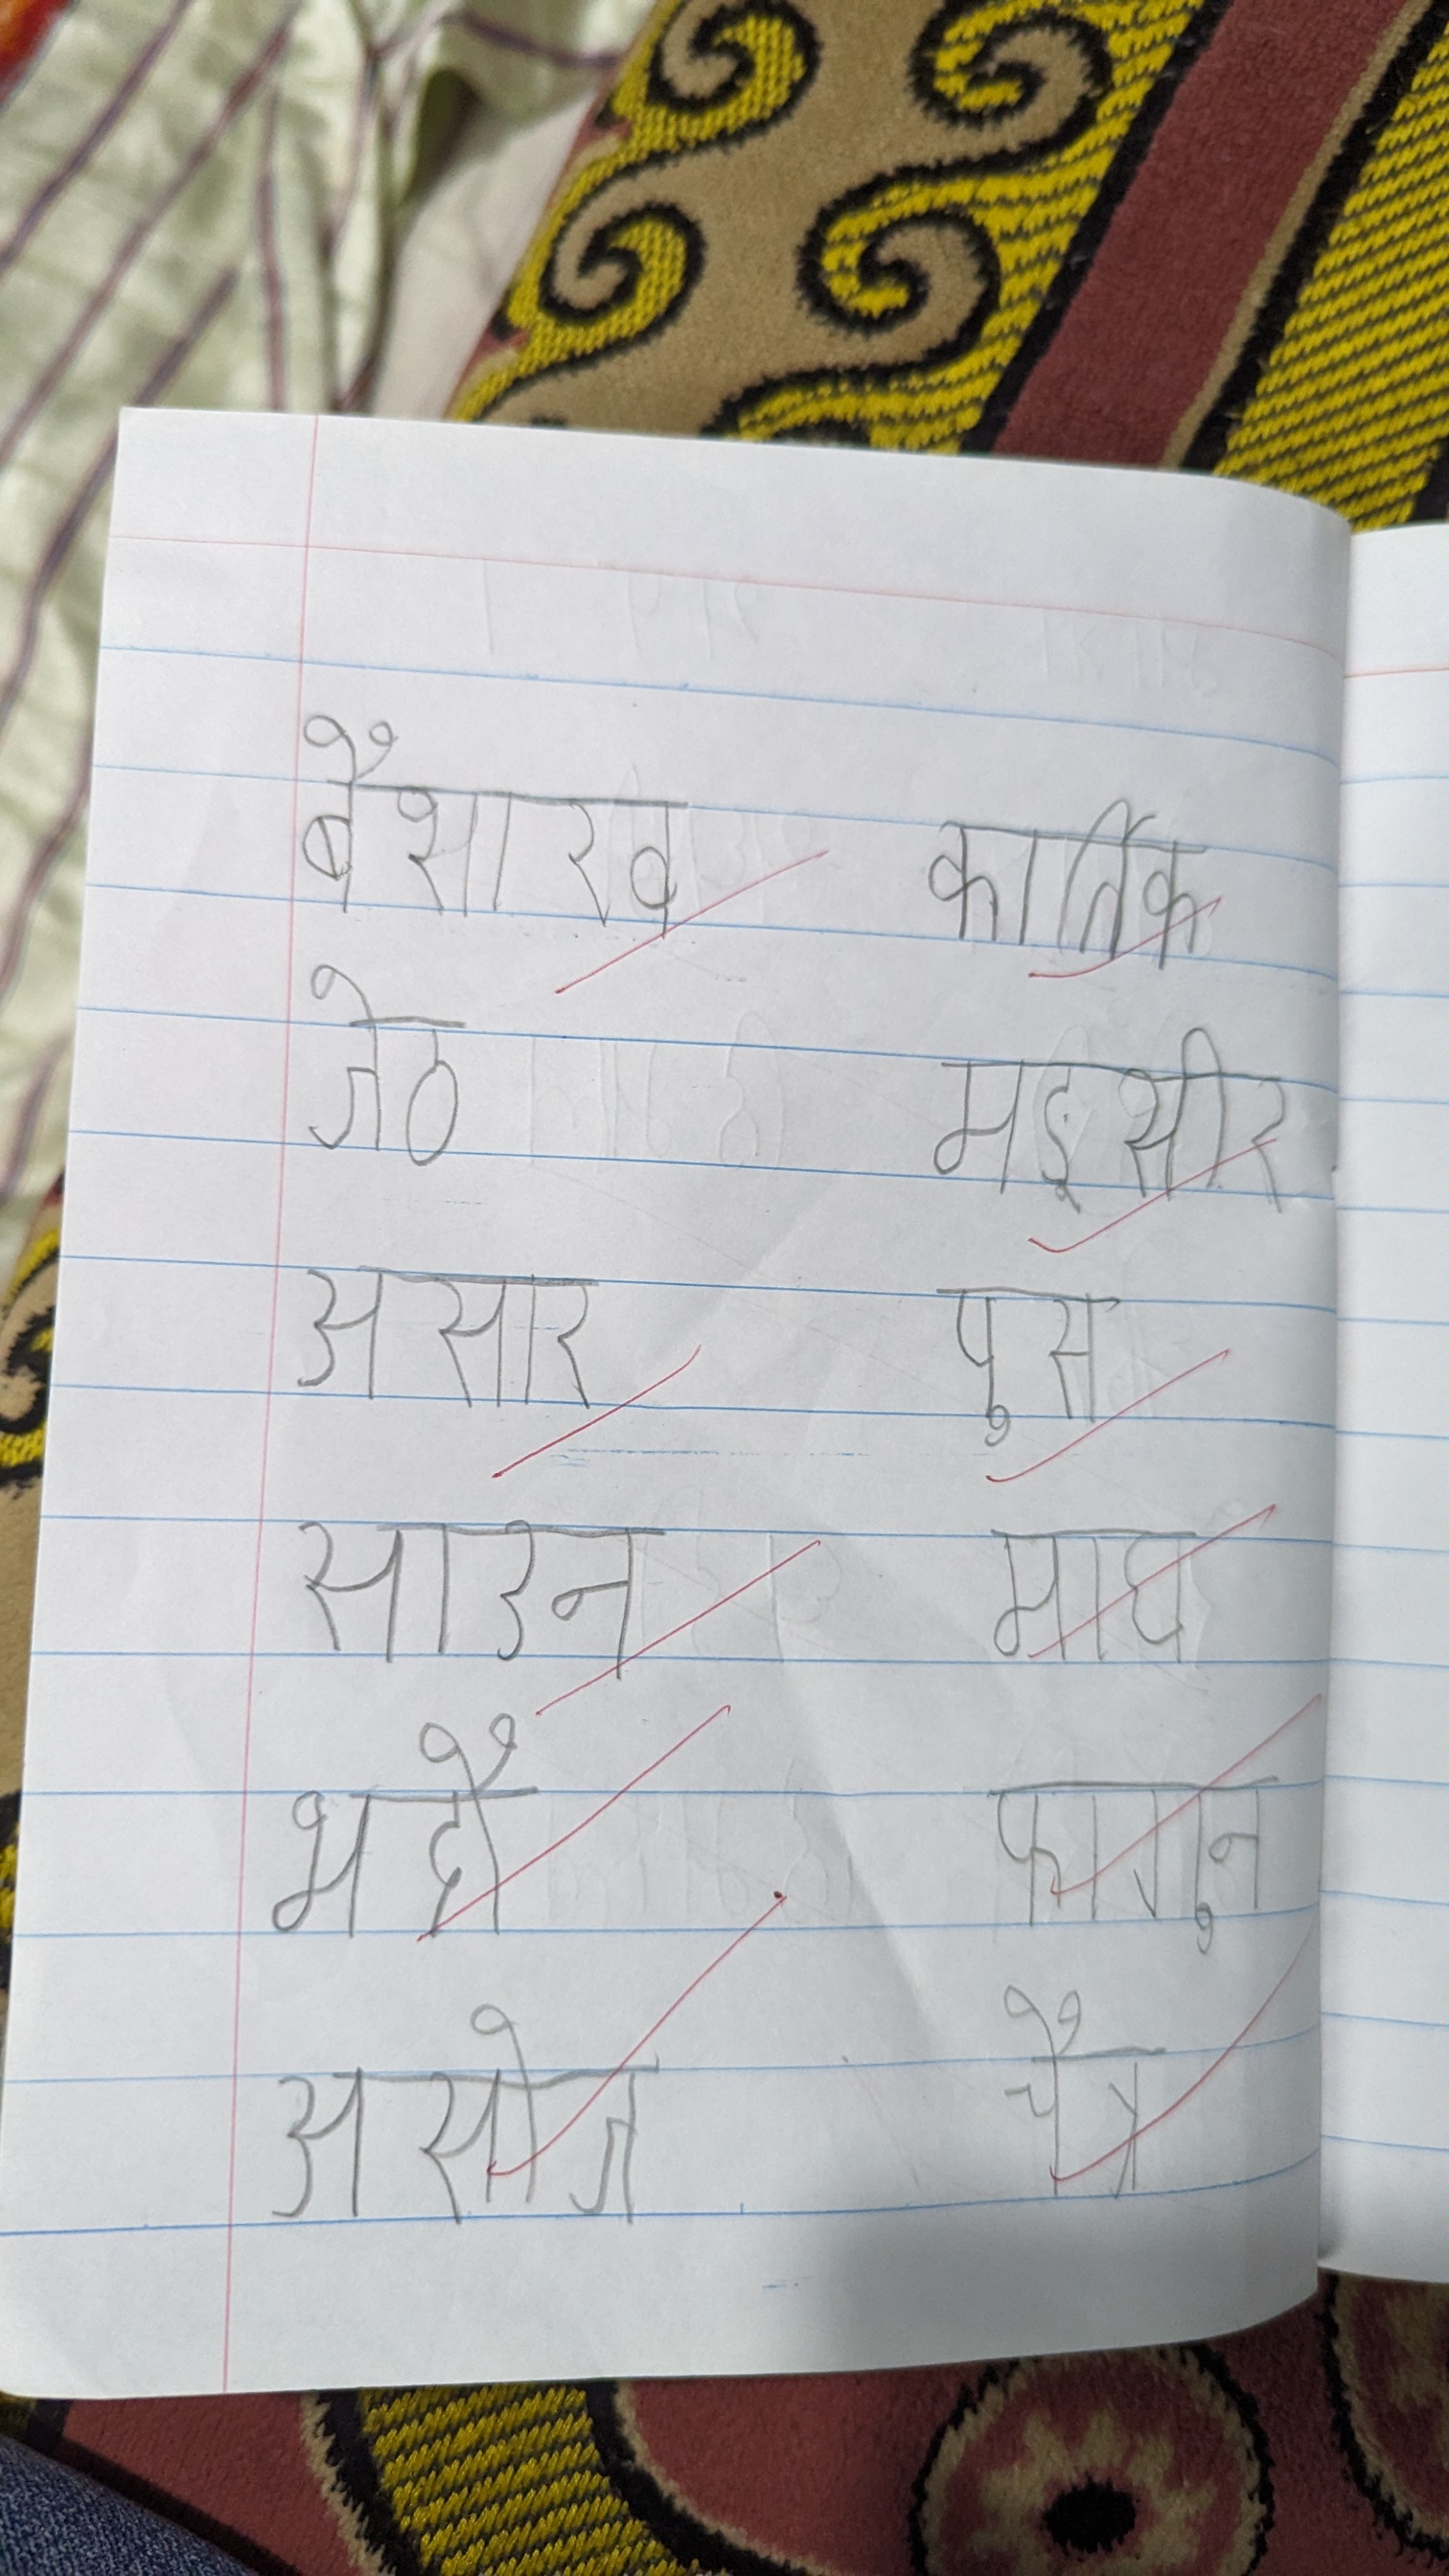text: (235, 1999, 741, 2247), (272, 699, 750, 943), (895, 1010, 1320, 1231), (290, 1224, 672, 1444), (262, 1714, 577, 1953), (890, 778, 1226, 993), (281, 1506, 660, 1688), (980, 1750, 1295, 1957), (276, 957, 515, 1205), (975, 1978, 1212, 2215), (980, 1509, 1226, 1695), (931, 1263, 1129, 1477)
